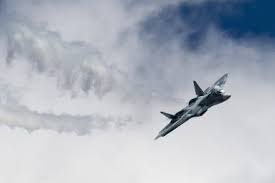fighter: (152, 68, 236, 142)
